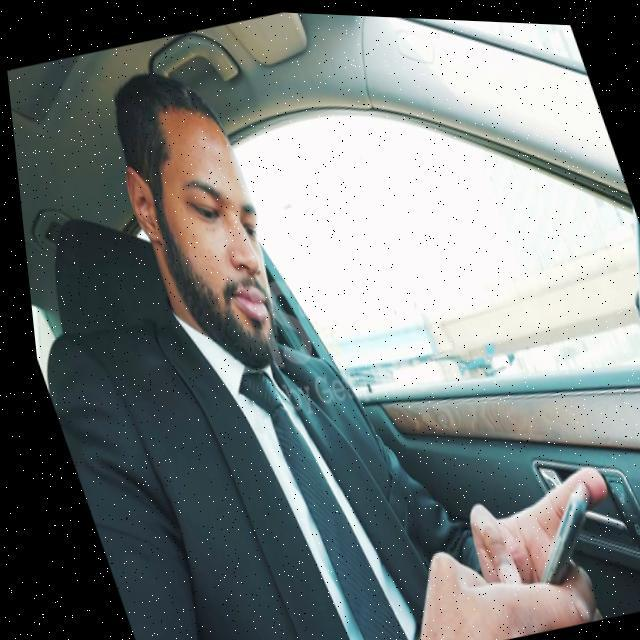PhoneCall: (498, 471, 610, 596)
